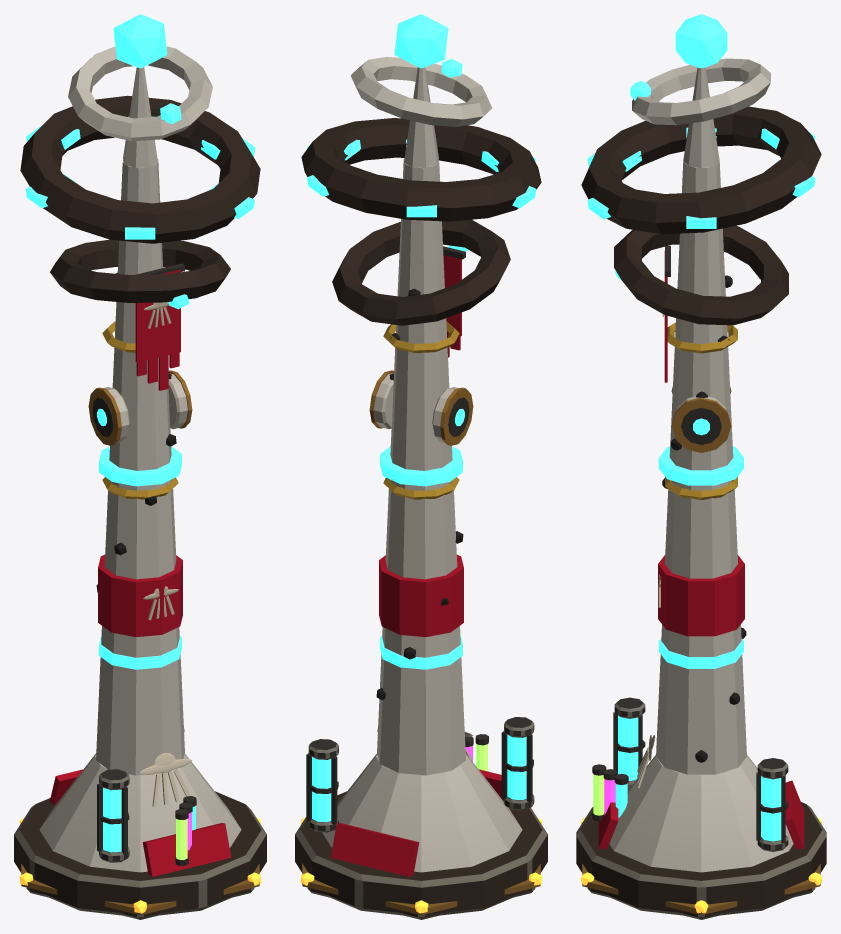
The model's file is gb_tower.glb.
3 renders of one model, left to right at view 1: azimuth 30°, elevation 25°; view 2: azimuth 150°, elevation 25°; view 3: azimuth 270°, elevation 25°, orthographic.
Visible parts, largest first — view 1: gb_tower; view 2: gb_tower; view 3: gb_tower.
Part boxes in pixels (box(x1,y1,x2,y2)): gb_tower: box(14, 14, 266, 919); gb_tower: box(295, 14, 547, 919); gb_tower: box(576, 14, 826, 919).
Bounding box in the file's own units: 2.74 × 9.3 × 2.47.
